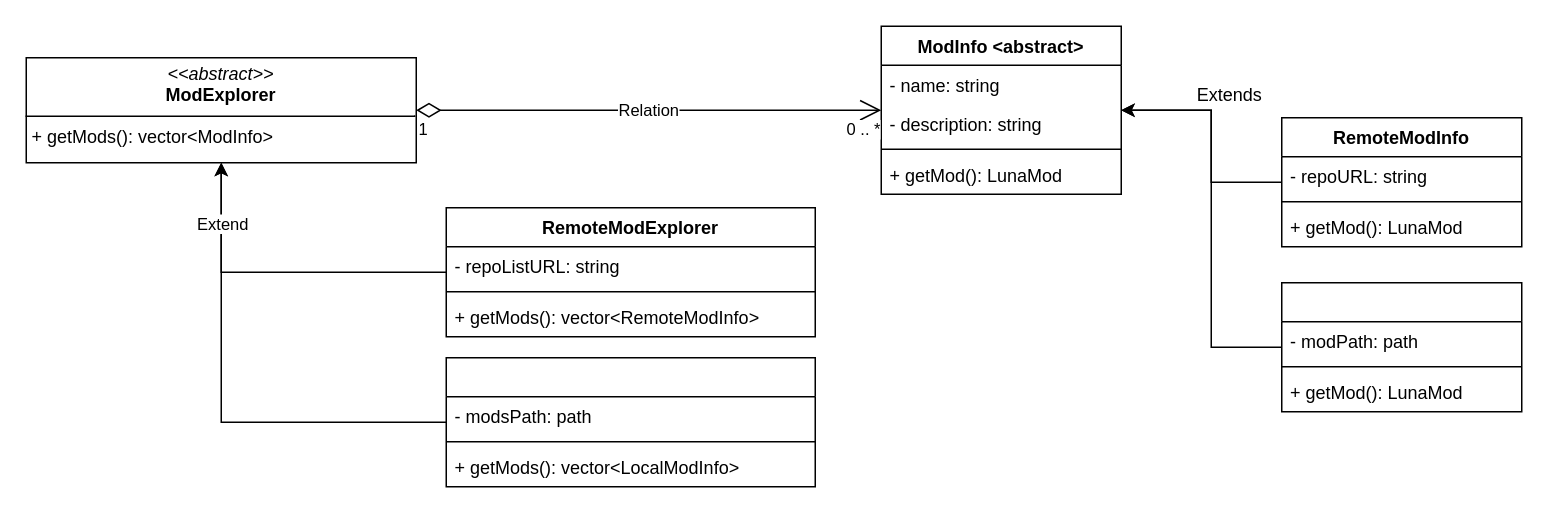
Some shapes in this 1548 by 518 pixel diagram are drawn without their labels. Each missing label, with the box of its shape:
LocalModExplorer: (445, 356, 815, 487)
LocalModInfo: (1280, 281, 1522, 412)
